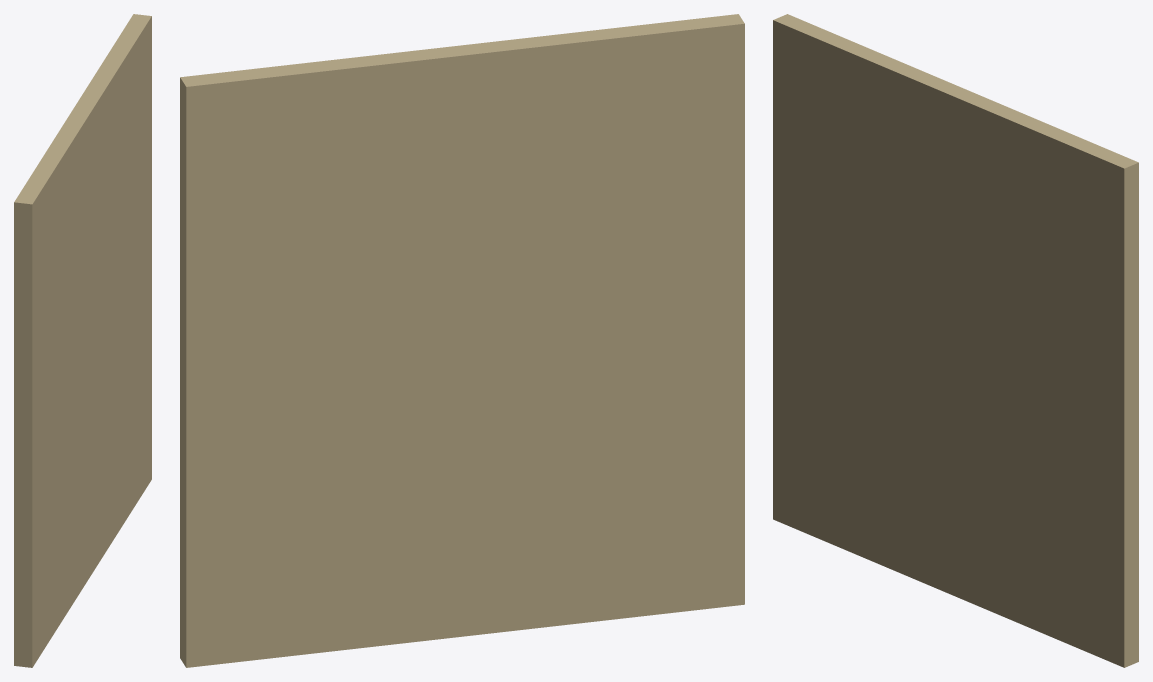
3 renders of one model, left to right at view 1: azimuth 30°, elevation 25°; view 2: azimuth 150°, elevation 25°; view 3: azimuth 270°, elevation 25°, orthographic. The views are drawn at different scales.
Parts seen in each view (by area): view 1: GF-W033; view 2: GF-W033; view 3: GF-W033.
Part boxes in pixels (<box>): GF-W033: <box>14,14,151,667</box>; GF-W033: <box>180,14,744,667</box>; GF-W033: <box>773,14,1138,667</box>.
Bounding box in the file's own units: 1.61 × 2.42 × 1.61.
